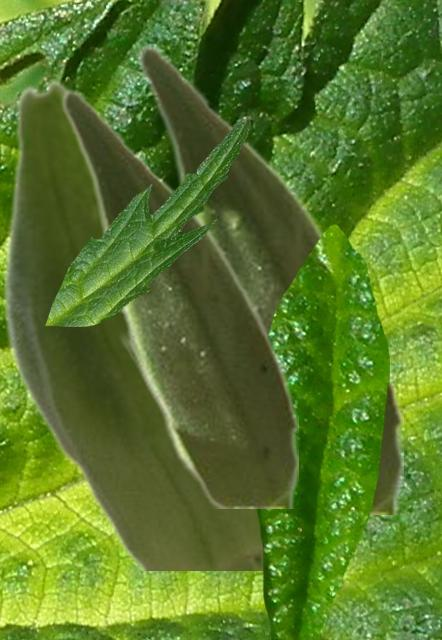okra: (2, 79, 261, 569), (136, 42, 402, 513), (60, 87, 297, 507)
